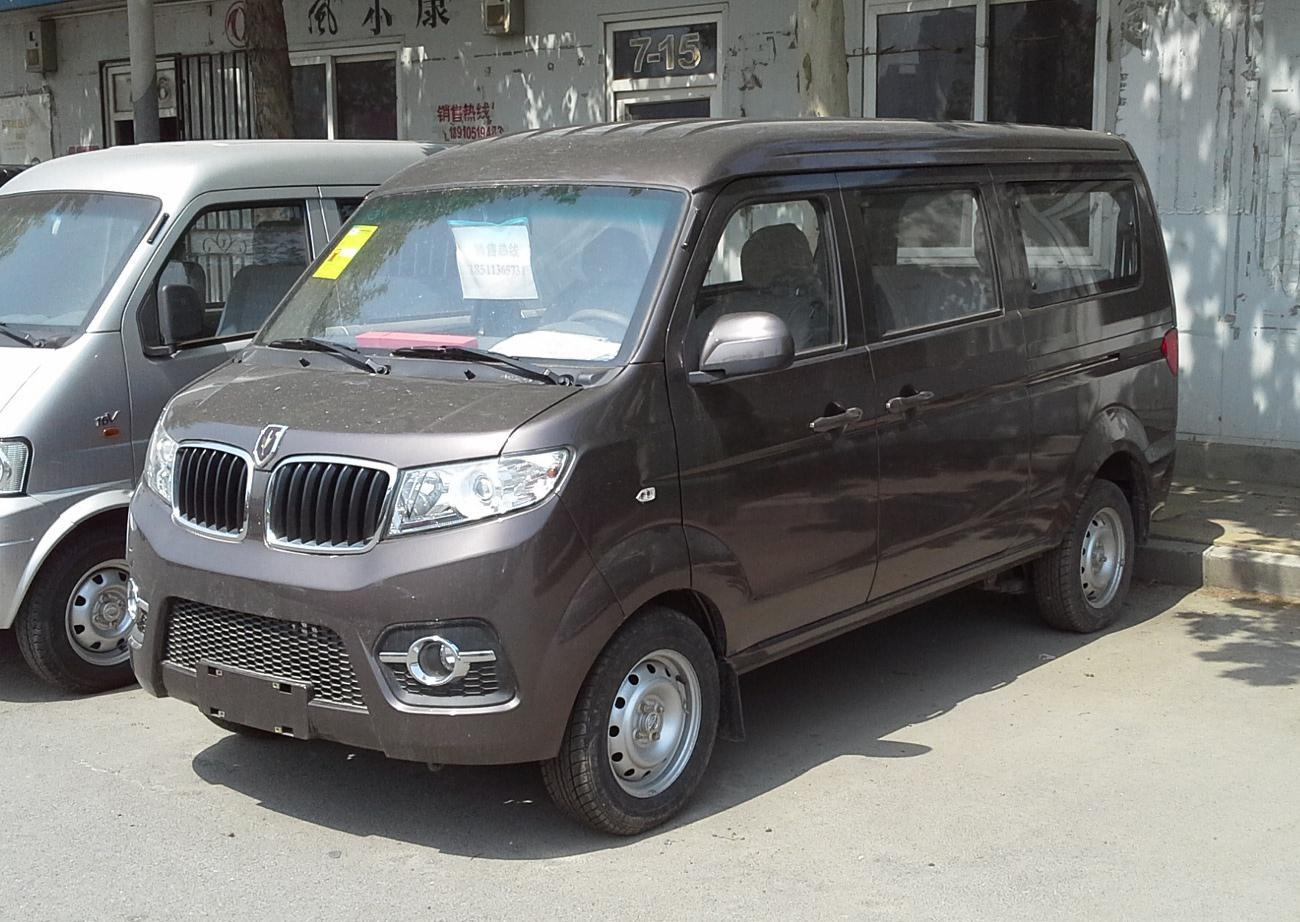Van: (125, 118, 1184, 740)
